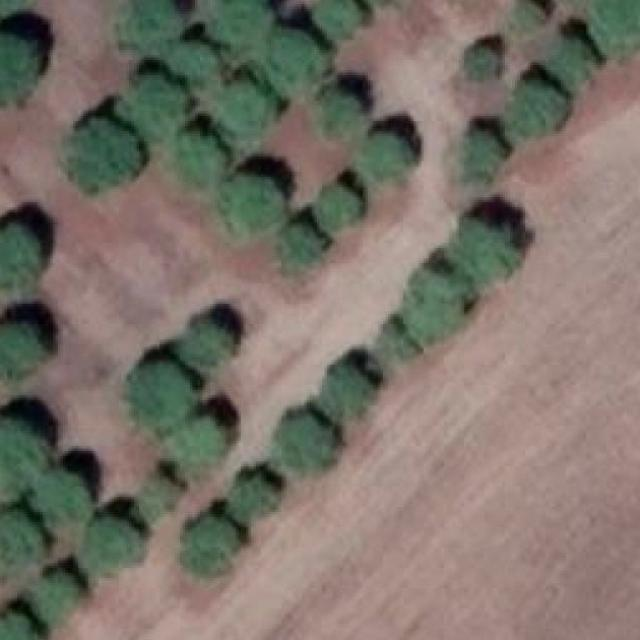Tree: (456, 202, 530, 273), (70, 121, 139, 190), (131, 359, 195, 424), (400, 272, 461, 338), (208, 0, 274, 58), (78, 517, 139, 573), (261, 30, 317, 89), (129, 75, 185, 131), (31, 469, 86, 524), (324, 362, 378, 418), (0, 220, 43, 288), (230, 176, 282, 232), (0, 420, 38, 494), (278, 416, 329, 470), (172, 414, 222, 469), (591, 0, 640, 55), (362, 131, 416, 180), (215, 78, 264, 132), (515, 80, 564, 134), (32, 571, 82, 622), (369, 321, 418, 370), (0, 510, 46, 561), (0, 322, 43, 376), (127, 0, 181, 42), (314, 182, 365, 225), (0, 34, 33, 99), (309, 0, 365, 38), (190, 520, 236, 566), (278, 223, 324, 268), (175, 134, 220, 178), (170, 40, 218, 80), (233, 480, 276, 523), (464, 131, 503, 177), (319, 94, 360, 134), (136, 480, 177, 520), (553, 38, 588, 81), (195, 324, 234, 358), (1, 610, 41, 640), (464, 45, 495, 78), (520, 0, 543, 24)
